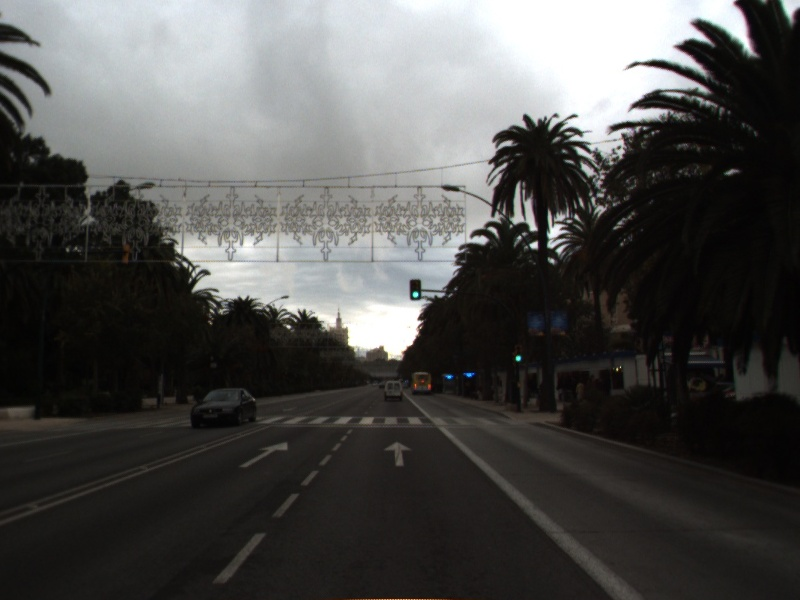STRAIGHT: (237, 440, 290, 469), (382, 440, 414, 468)
